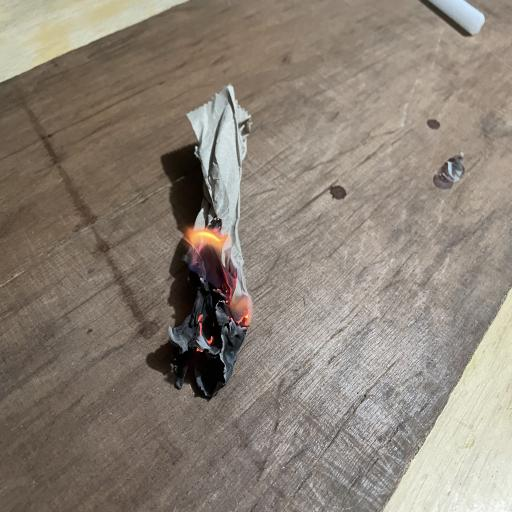fire: (164, 208, 260, 382)
